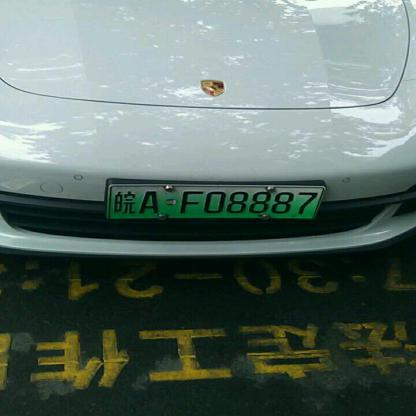lp: (109, 186, 324, 219)
